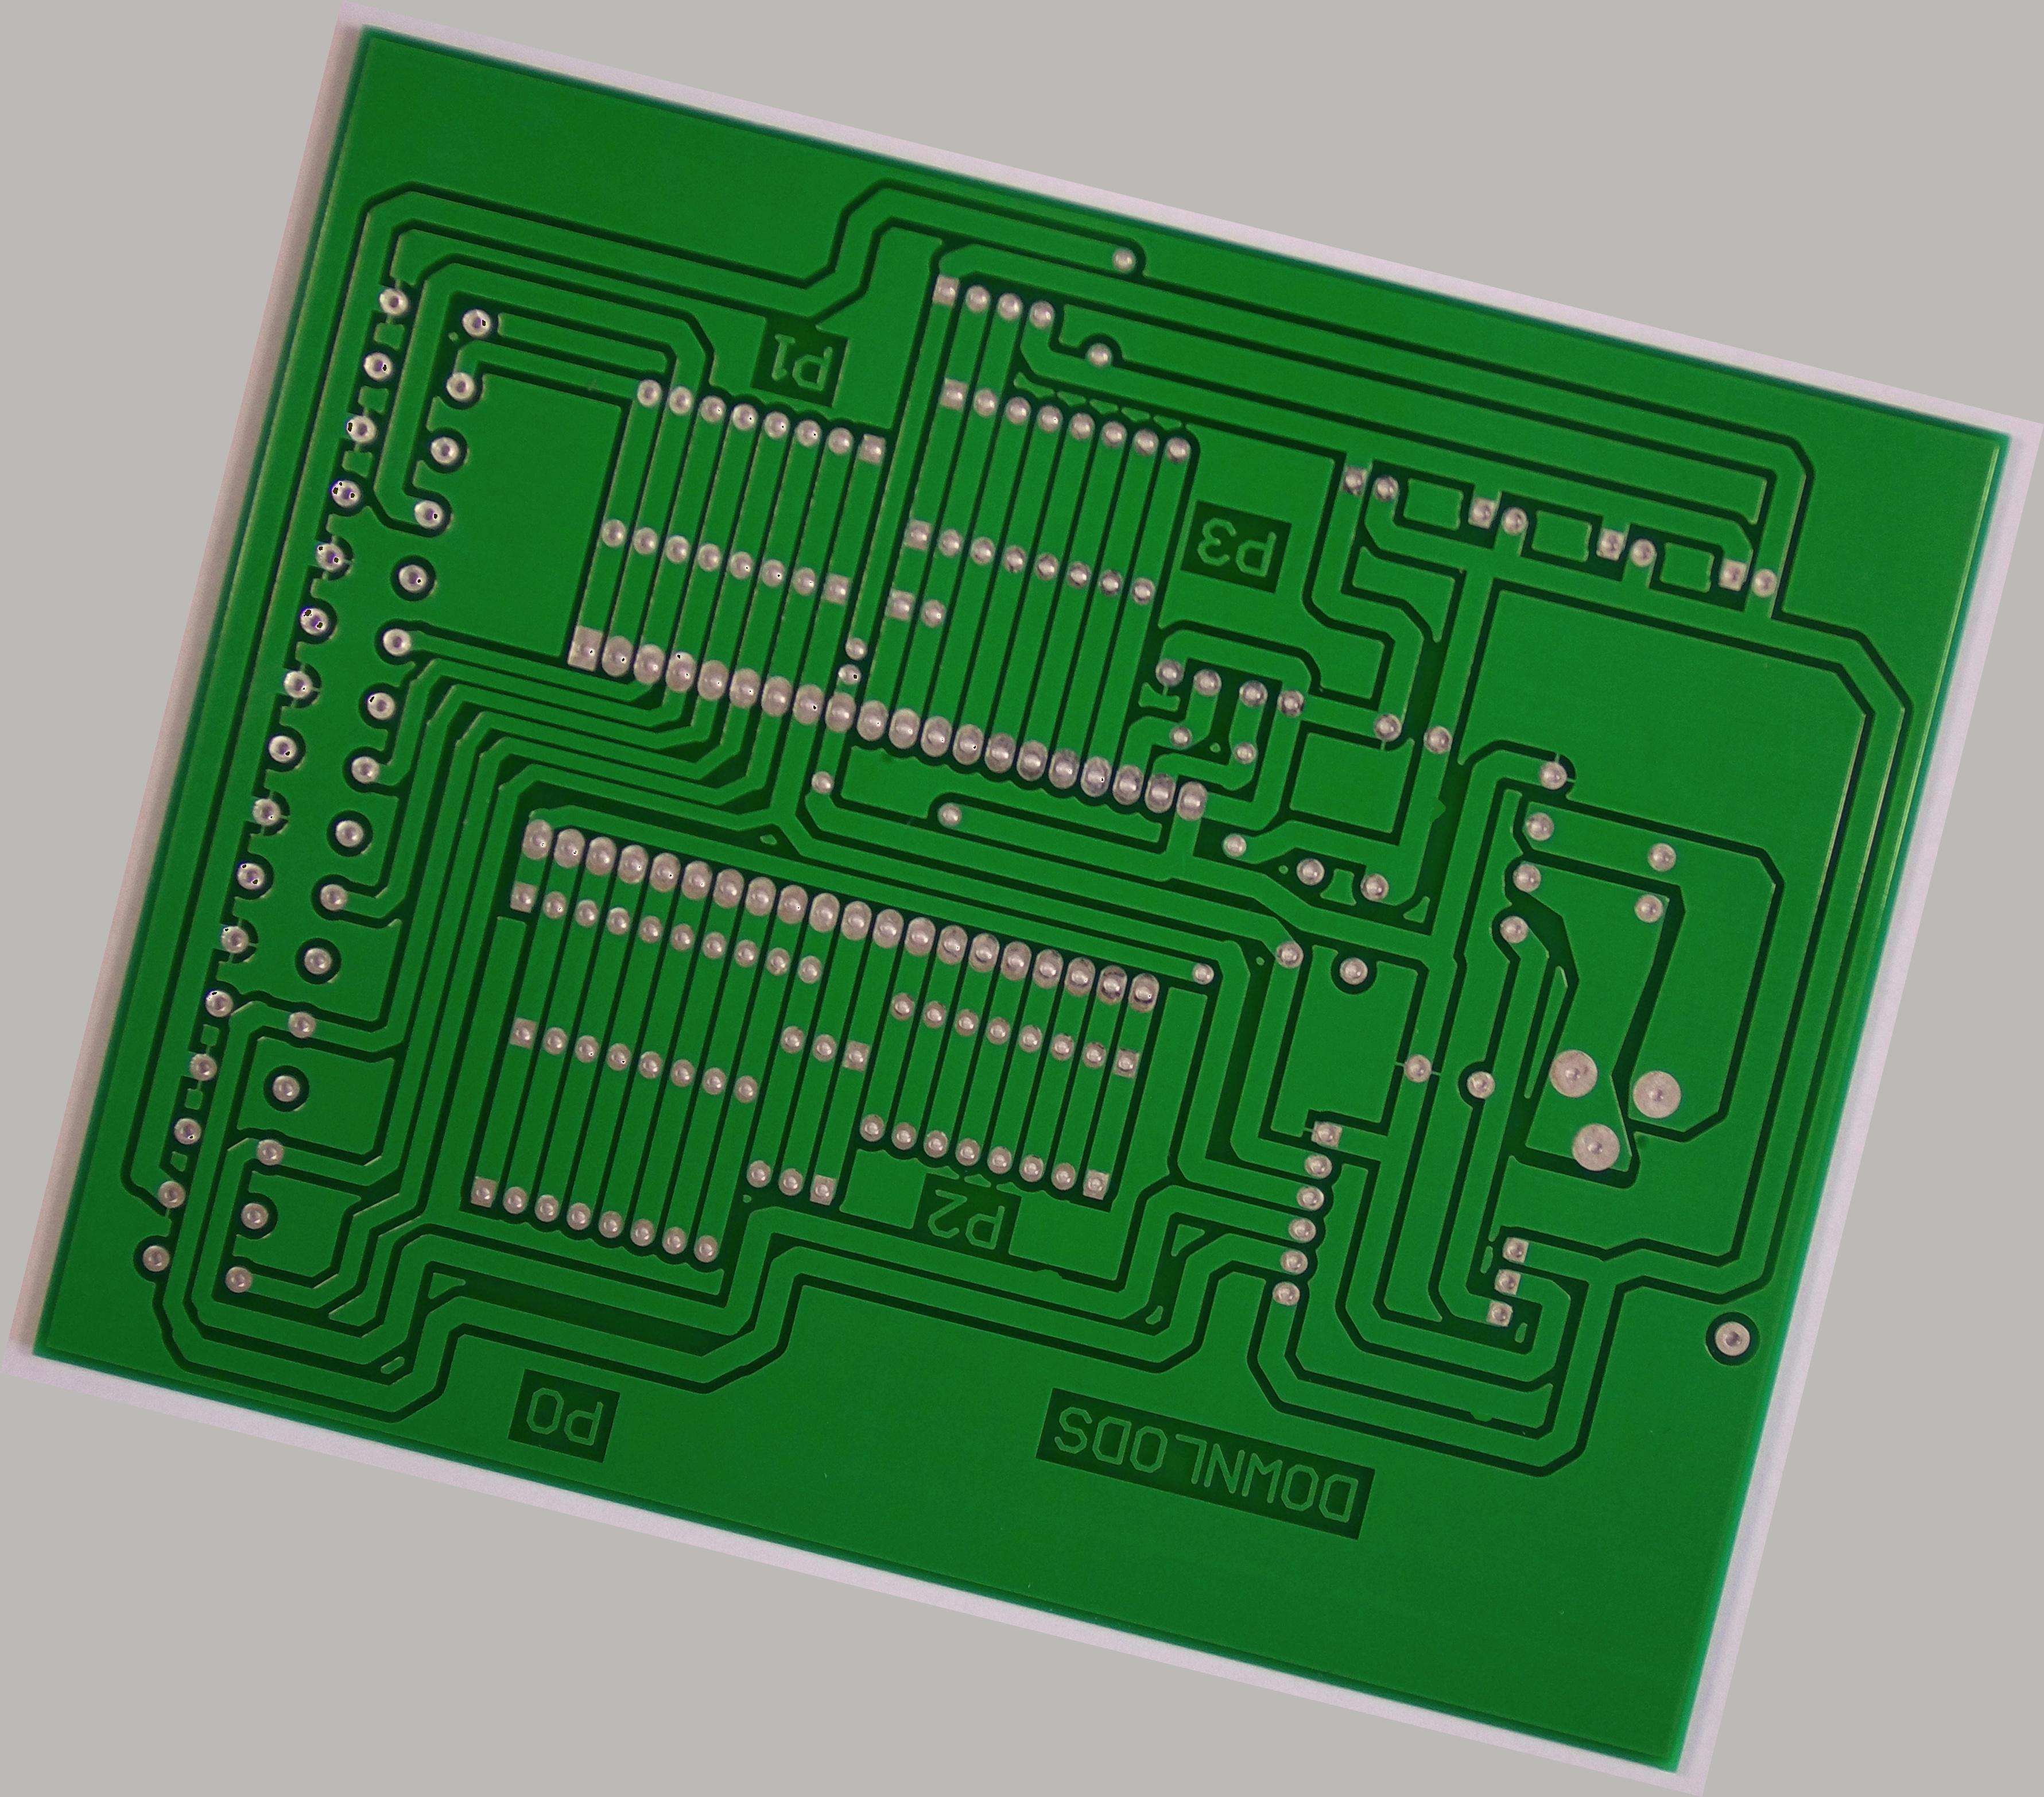spur: (1024, 1255, 1076, 1298), (1458, 1387, 1507, 1430), (1418, 784, 1457, 834)
